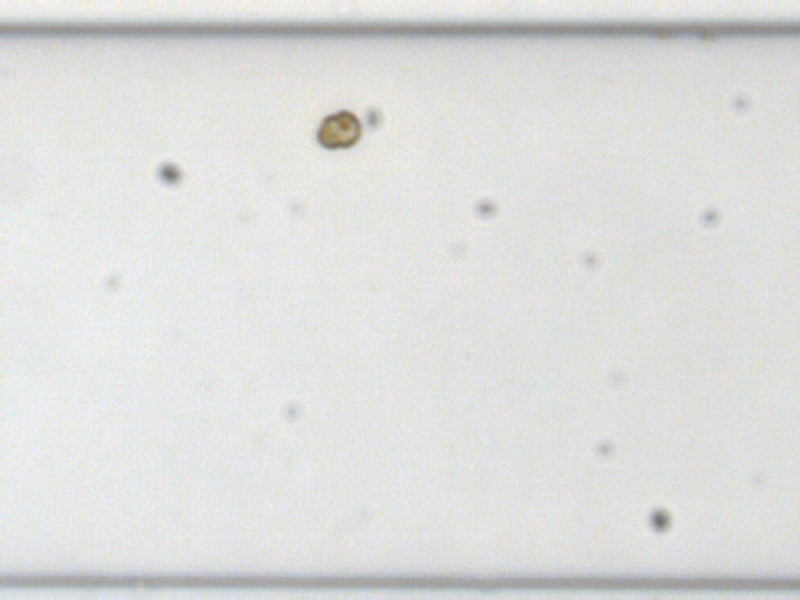Effrenium: (314, 109, 359, 149)
